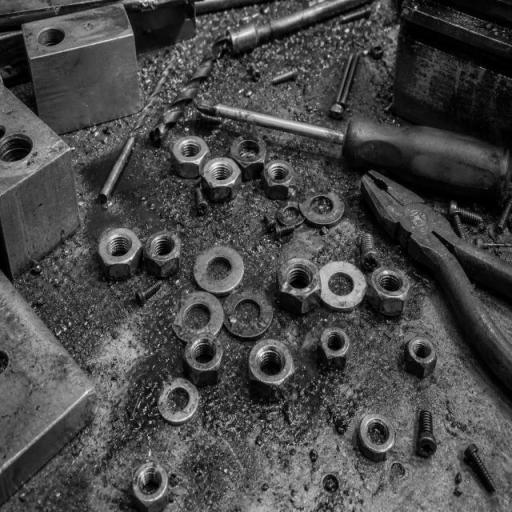Bolt: (95, 132, 136, 208), (327, 48, 364, 121), (460, 441, 496, 494), (410, 408, 438, 458), (445, 198, 490, 228), (270, 70, 299, 84)
Nut: (247, 339, 295, 398), (275, 258, 323, 315), (95, 226, 142, 280), (369, 265, 413, 316), (184, 336, 224, 387), (143, 229, 184, 278), (356, 412, 396, 462), (131, 460, 170, 511), (200, 155, 242, 202), (230, 136, 267, 182), (170, 135, 210, 177), (402, 335, 439, 379), (318, 327, 351, 370), (263, 160, 295, 200)
Washer: (316, 259, 369, 312), (173, 289, 225, 343), (192, 243, 246, 294), (224, 287, 275, 338), (155, 379, 200, 425), (299, 189, 346, 226), (274, 193, 305, 229)
